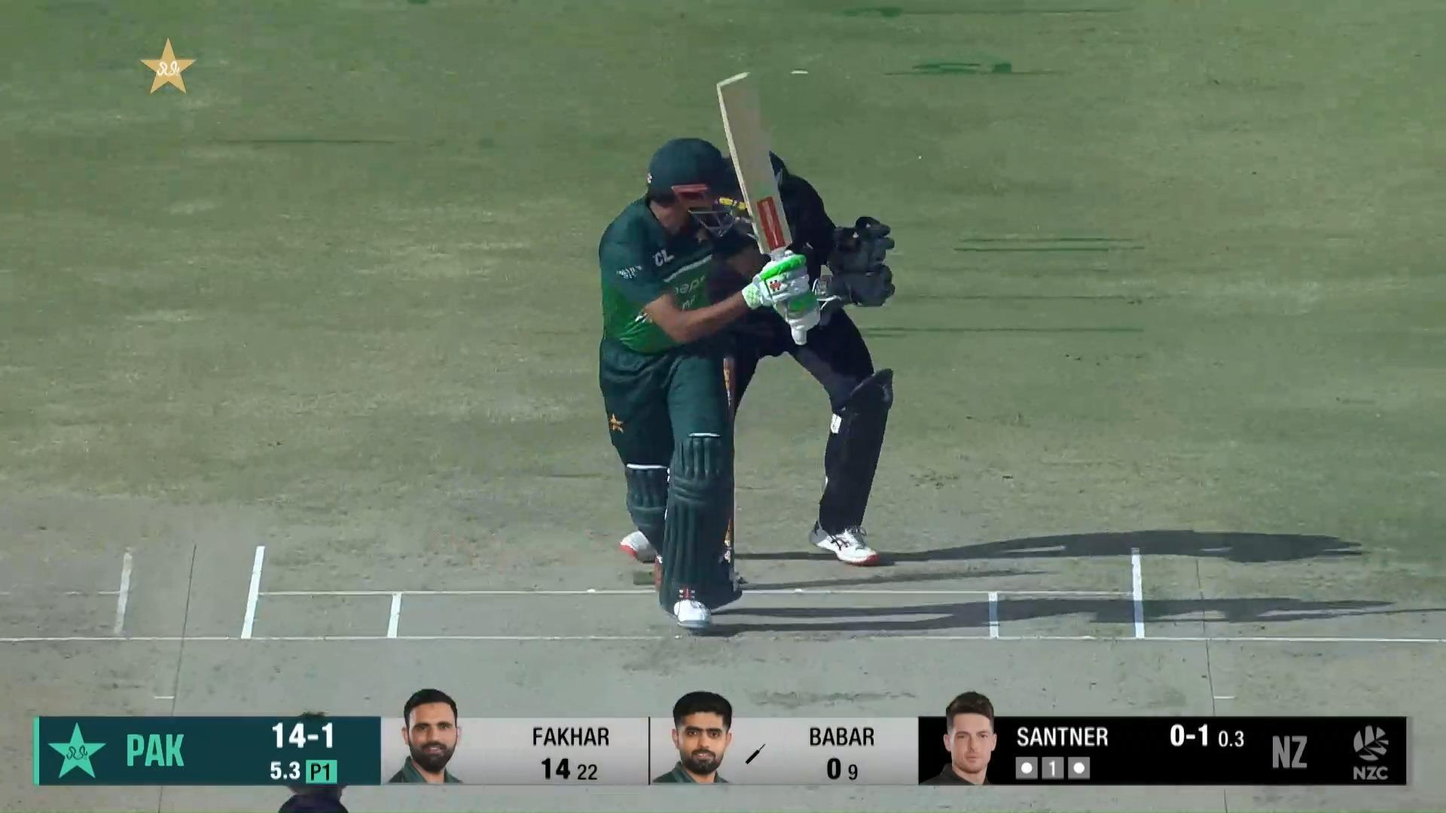BM 1: (598, 72, 821, 632)
BO: (277, 708, 354, 813)
